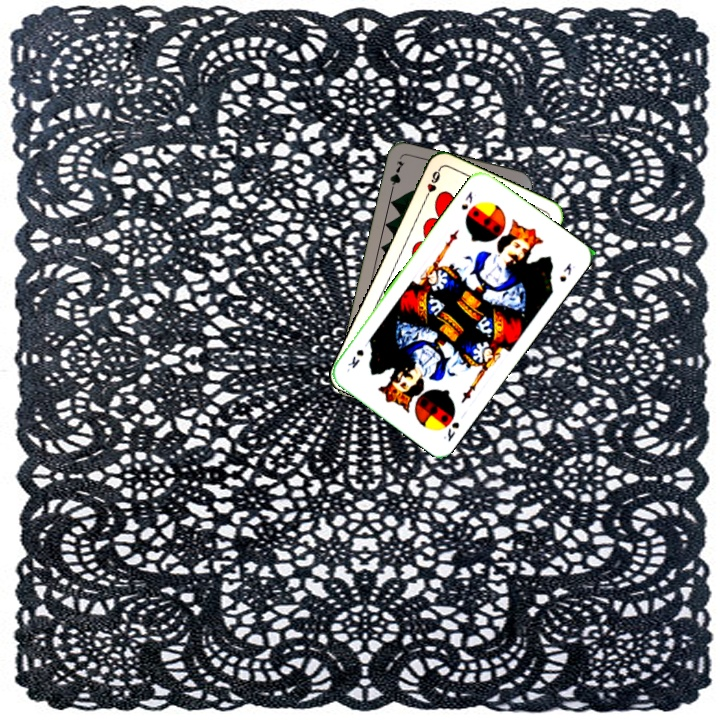G7: (386, 157, 407, 196)
H9: (420, 165, 443, 203)
SK: (439, 418, 462, 444), (457, 187, 476, 213)
